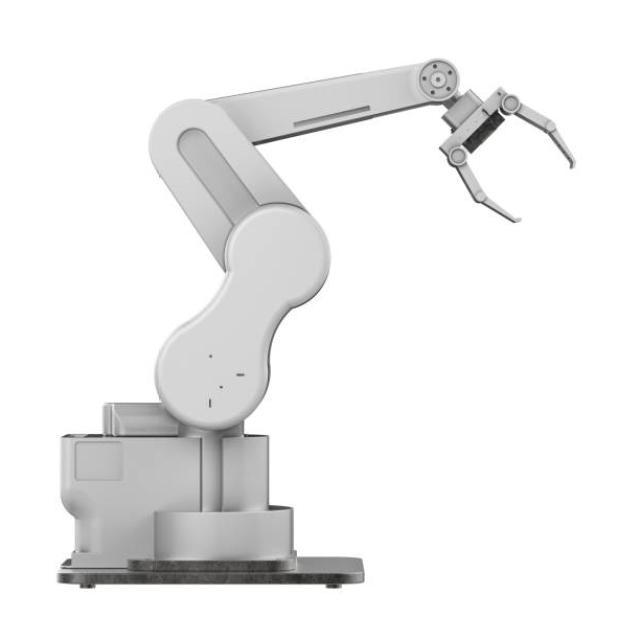Robotic-arm: (44, 54, 580, 596)
